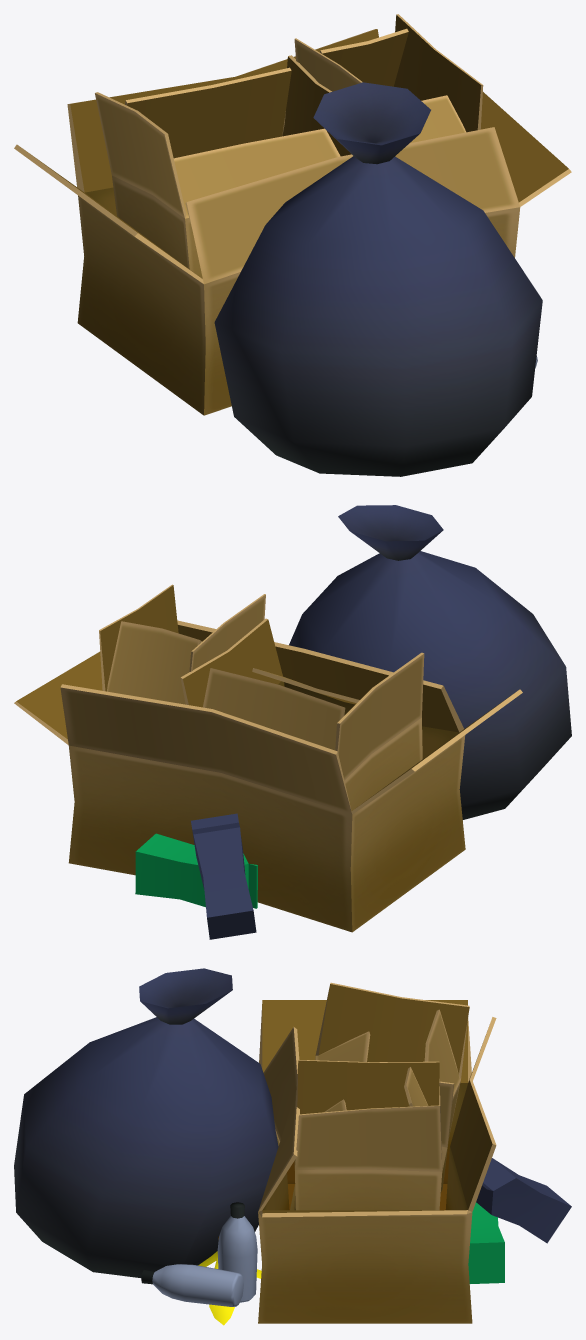
Rendered from prop_GarbagePile03.fbx.
3 views of the same model, one above another, from view 1: azimuth 30°, elevation 25°; view 2: azimuth 150°, elevation 25°; view 3: azimuth 270°, elevation 25° (orthographic). The views are drawn at different scales.
Visible parts, largest first — view 1: prop_GarbageBag03, prop_GarbageBox04, prop_GarbageBox02, prop_GarbageBox01; view 2: prop_GarbageBox04, prop_GarbageBag03, prop_GarbageBox02, prop_Garbage, prop_GarbageBox01; view 3: prop_GarbageBag03, prop_GarbageBox04, prop_GarbageBox01, prop_Garbage, prop_GarbageBox02.
Boxes of the visible parts, box(x1,y1,x2,y2) form: prop_GarbageBag03: box(214, 82, 542, 476); prop_GarbageBox04: box(14, 29, 571, 415); prop_GarbageBox02: box(95, 55, 351, 278); prop_GarbageBox01: box(294, 14, 483, 142); prop_GarbageBox04: box(14, 620, 522, 932); prop_GarbageBag03: box(289, 505, 571, 819); prop_GarbageBox02: box(180, 618, 424, 810); prop_Garbage: box(135, 813, 257, 939); prop_GarbageBox01: box(99, 584, 265, 704); prop_GarbageBag03: box(14, 968, 278, 1277); prop_GarbageBox04: box(258, 1000, 496, 1323); prop_GarbageBox01: box(294, 1059, 442, 1210); prop_Garbage: box(141, 1158, 571, 1325); prop_GarbageBox02: box(290, 982, 469, 1210).
Bounding box in the file's own units: 234 × 163 × 298.
